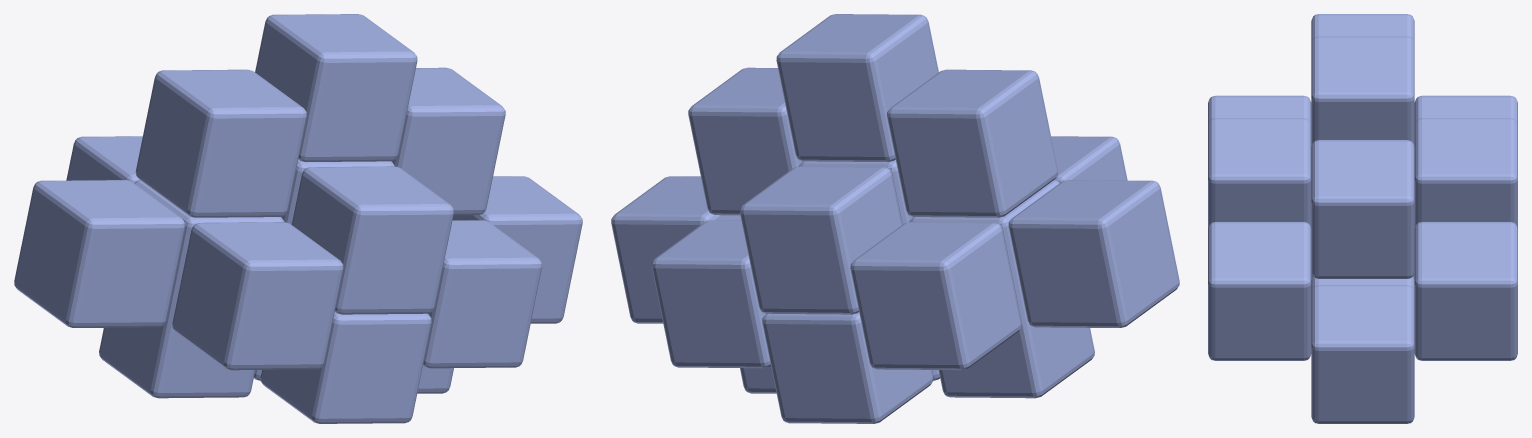
Rendered from cloud.fbx.
The picture shows the model from 3 angles, left to right: view 1: azimuth 30°, elevation 25°; view 2: azimuth 150°, elevation 25°; view 3: azimuth 270°, elevation 25°; orthographic projection. The views are drawn at different scales.
Visible parts, largest first — view 1: Cube.011, Cube.015, Cube.007, Cube.001, Cube.006, Cube.018, Cube.020, Cube.016, Cube.021, Cube.009, Cube.012, Cube.008 (+2 smaller); view 2: Cube.012, Cube.015, Cube.007, Cube.005, Cube.006, Cube.019, Cube.004, Cube.016, Cube.021, Cube.009, Cube.011, Cube.008 (+2 smaller); view 3: Cube.021, Cube.016, Cube.018, Cube.019, Cube.006, Cube.001, Cube.005, Cube.007, Cube.011, Cube.012, Cube.017.
Part boxes in pixels (box(x1,y1,x2,y2)): Cube.011: box(172, 222, 343, 370); Cube.015: box(14, 180, 185, 327); Cube.007: box(135, 69, 306, 217); Cube.001: box(291, 166, 453, 314); Cube.006: box(255, 14, 417, 161); Cube.018: box(423, 220, 542, 368); Cube.020: box(260, 312, 431, 423); Cube.016: box(391, 67, 505, 215); Cube.021: box(452, 176, 582, 323); Cube.009: box(99, 297, 255, 398); Cube.012: box(66, 136, 142, 182); Cube.008: box(134, 180, 284, 321); Cube.012: box(850, 222, 1021, 370); Cube.015: box(1008, 180, 1179, 327); Cube.007: box(887, 69, 1058, 217); Cube.005: box(740, 166, 902, 314); Cube.006: box(776, 14, 938, 161); Cube.019: box(651, 220, 770, 368); Cube.004: box(762, 312, 933, 423); Cube.016: box(688, 67, 802, 215); Cube.021: box(611, 176, 741, 323); Cube.009: box(938, 297, 1094, 398); Cube.011: box(1051, 136, 1127, 182); Cube.008: box(909, 180, 1059, 321); Cube.021: box(1311, 285, 1414, 423); Cube.016: box(1311, 140, 1414, 278); Cube.018: box(1208, 222, 1311, 360); Cube.019: box(1414, 222, 1517, 360); Cube.006: box(1311, 36, 1414, 146); Cube.001: box(1208, 118, 1311, 228); Cube.005: box(1414, 118, 1517, 228); Cube.007: box(1311, 14, 1414, 42); Cube.011: box(1208, 95, 1311, 124); Cube.012: box(1414, 95, 1517, 124); Cube.017: box(1311, 277, 1414, 291).
Size of the model in its own units: 1013 by 692 by 600.
